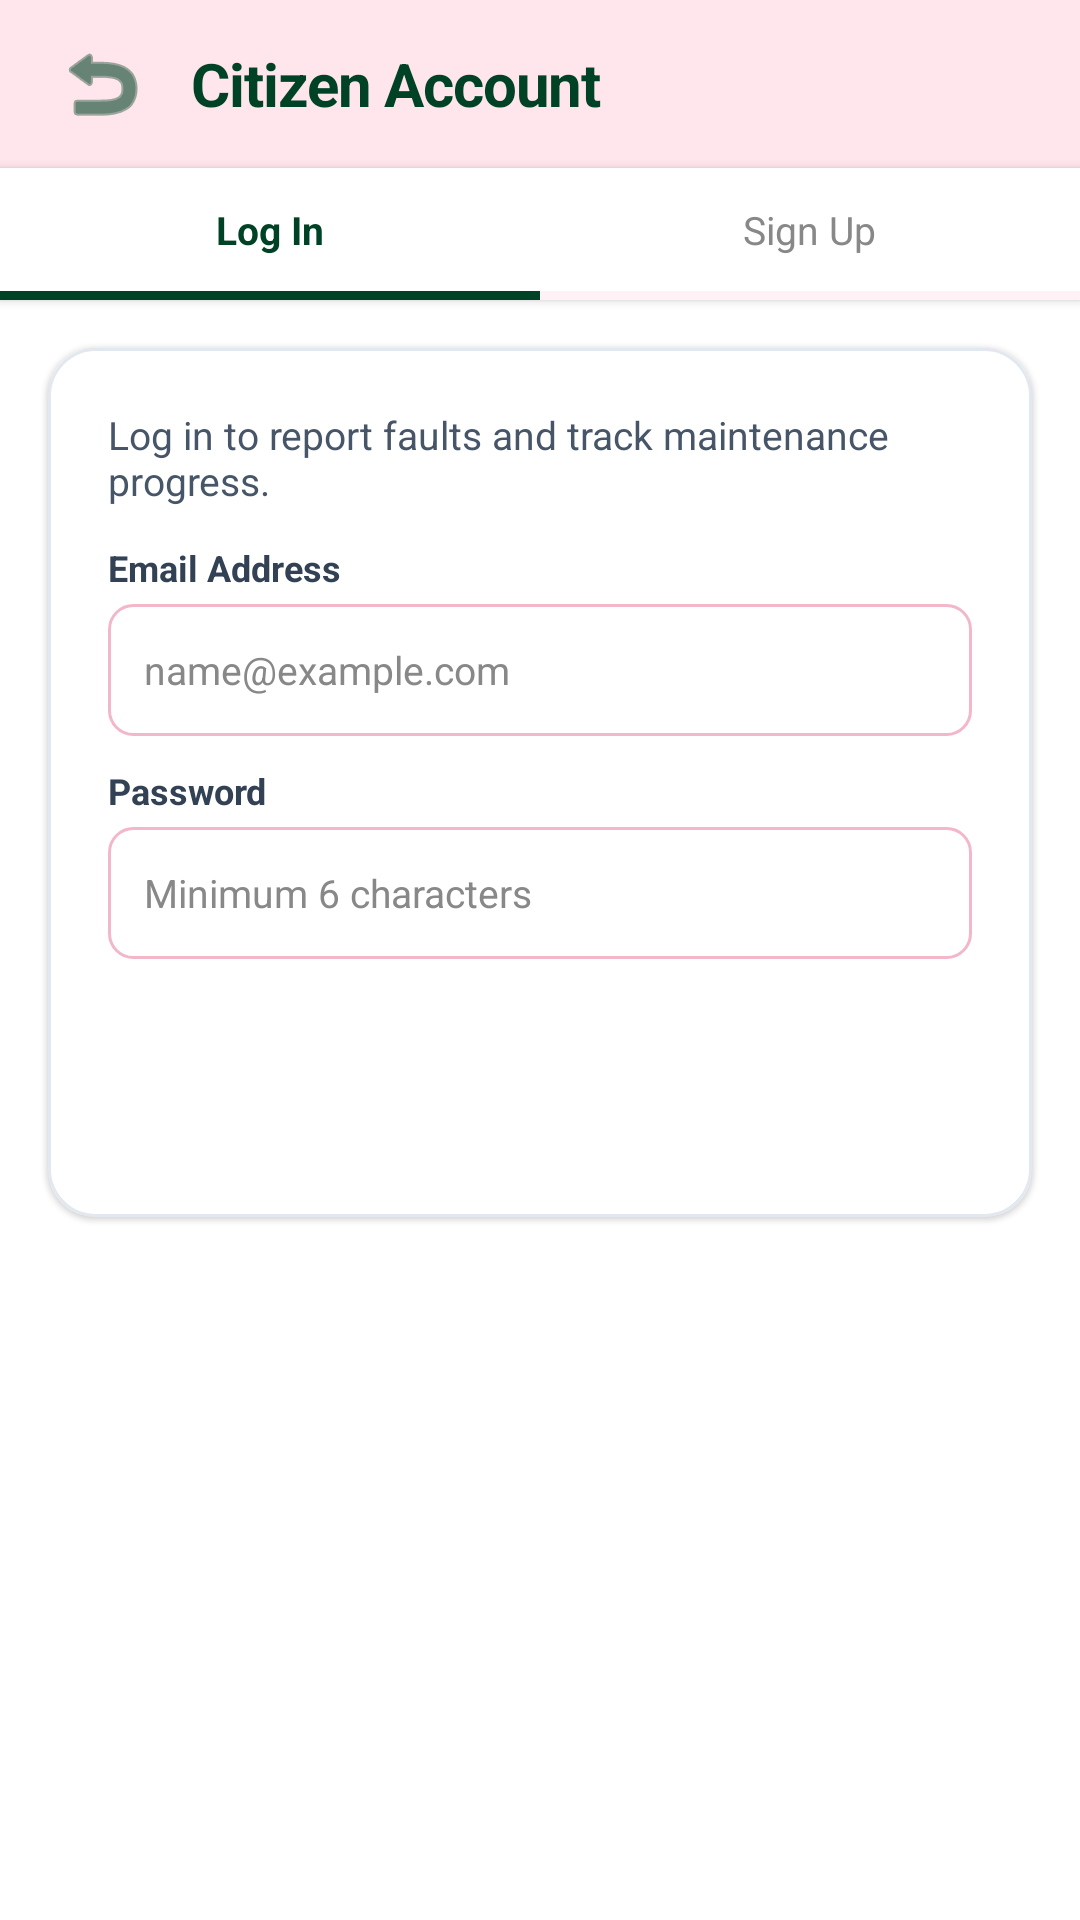

Screen size 1080x1920. Icon name, then its box in pixels as rect(x1, y1, x2, y2):
Back: rect(69, 53, 138, 116)
